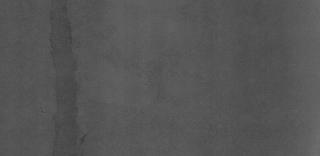water spot: (44, 4, 92, 156)
